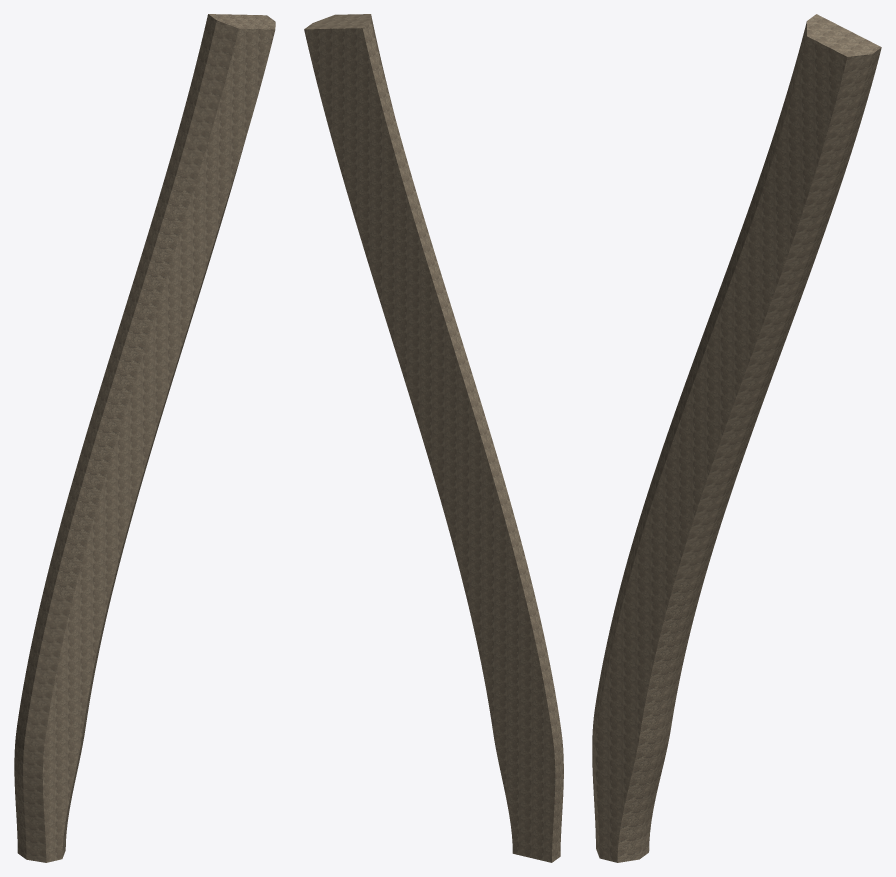
The model's file is gaogongdao_causeway_fill.obj.
3 views of the same model, side by side, from view 1: azimuth 30°, elevation 25°; view 2: azimuth 150°, elevation 25°; view 3: azimuth 330°, elevation 25° (orthographic). The views are drawn at different scales.
Visible parts, largest first — view 1: harbor; view 2: harbor; view 3: harbor.
Boxes of the visible parts, <box> form: harbor: <box>14,14,275,862</box>; harbor: <box>304,14,563,862</box>; harbor: <box>592,14,881,862</box>.
Bounding box in the file's own units: 70.69 × 212 × 9.57.
1 material, 1 textured.
